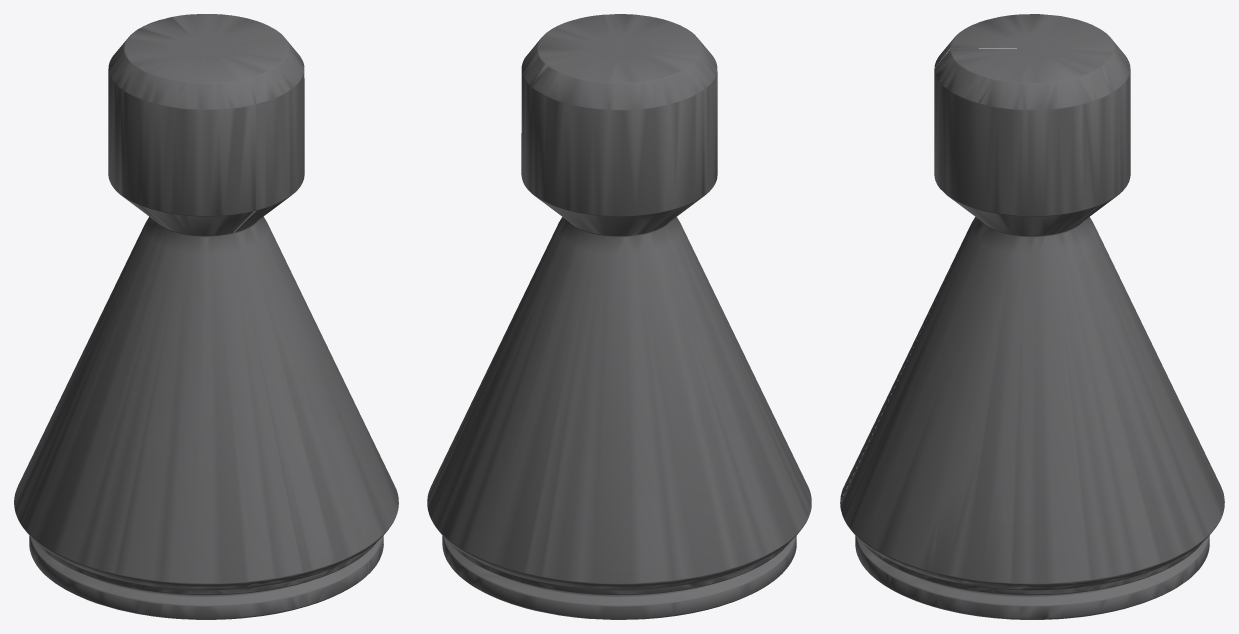
The model's file is pawn-black.glb.
The picture shows the model from 3 angles, left to right: view 1: azimuth 30°, elevation 25°; view 2: azimuth 150°, elevation 25°; view 3: azimuth 270°, elevation 25°; orthographic projection.
Parts seen in each view (by area): view 1: 06_pesec_cerna; view 2: 06_pesec_cerna; view 3: 06_pesec_cerna.
Part boxes in pixels (x1,y1,x2,y2): 06_pesec_cerna: [14, 14, 398, 619]; 06_pesec_cerna: [427, 14, 811, 619]; 06_pesec_cerna: [840, 14, 1224, 619].
Size of the model in its own units: 0.6157 by 0.88 by 0.6157.
1 material, 1 textured.
